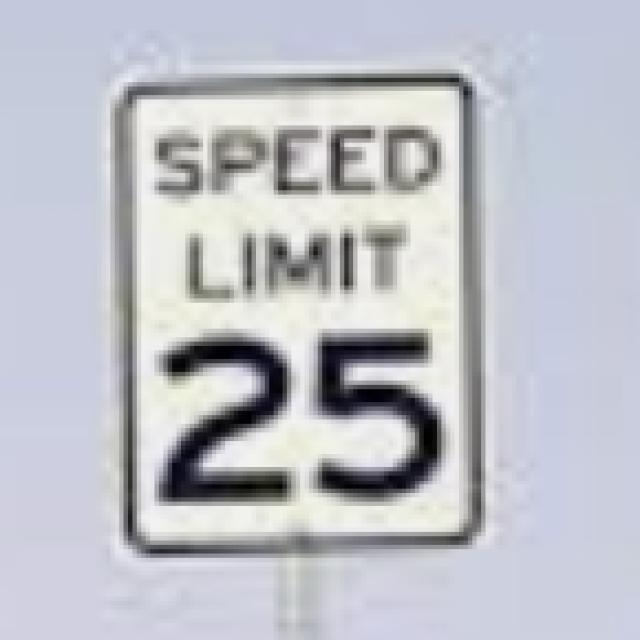speedLimit25: (116, 75, 480, 552)
